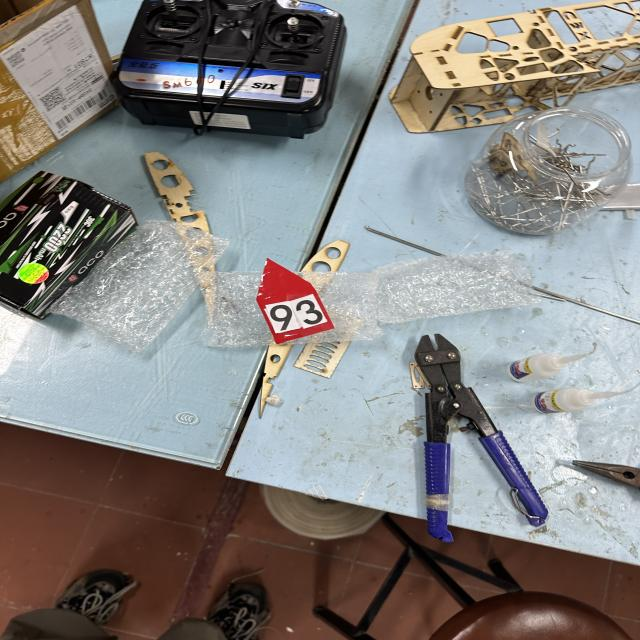board: (255, 258, 337, 345)
